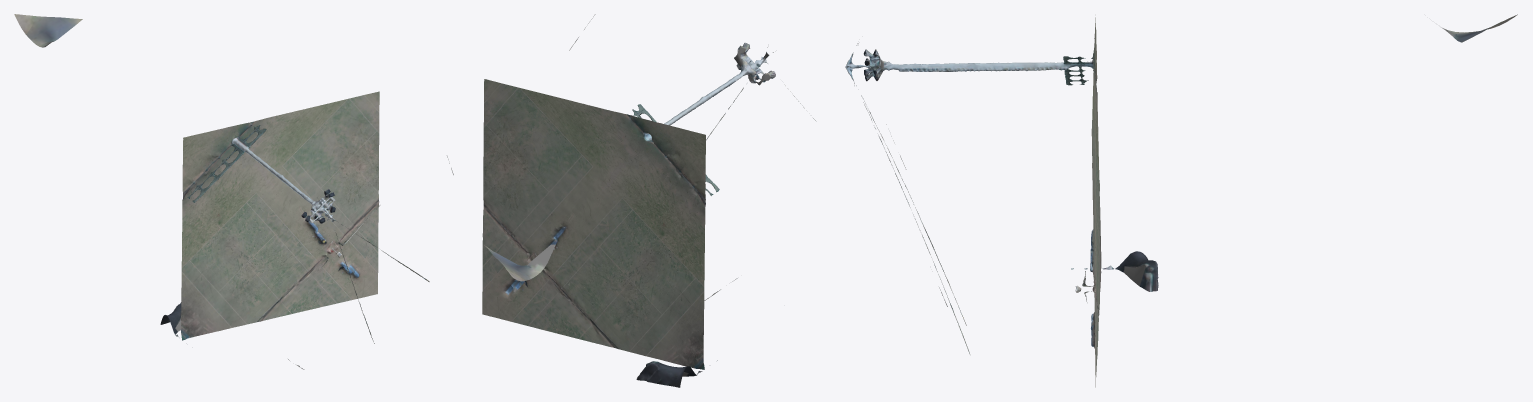
File: Tile_+018_+017.fbx
The picture shows the model from 3 angles, left to right: view 1: azimuth 30°, elevation 25°; view 2: azimuth 150°, elevation 25°; view 3: azimuth 270°, elevation 25°; orthographic projection. The views are drawn at different scales.
Parts seen in each view (by area): view 1: DefaultName; view 2: DefaultName; view 3: DefaultName.
Boxes of the visible parts, box(x1,y1,x2,y2) form: DefaultName: box(14, 14, 453, 369); DefaultName: box(482, 14, 816, 387); DefaultName: box(845, 14, 1517, 387).
Size of the model in its own units: 22.54 by 22.54 by 53.93.
